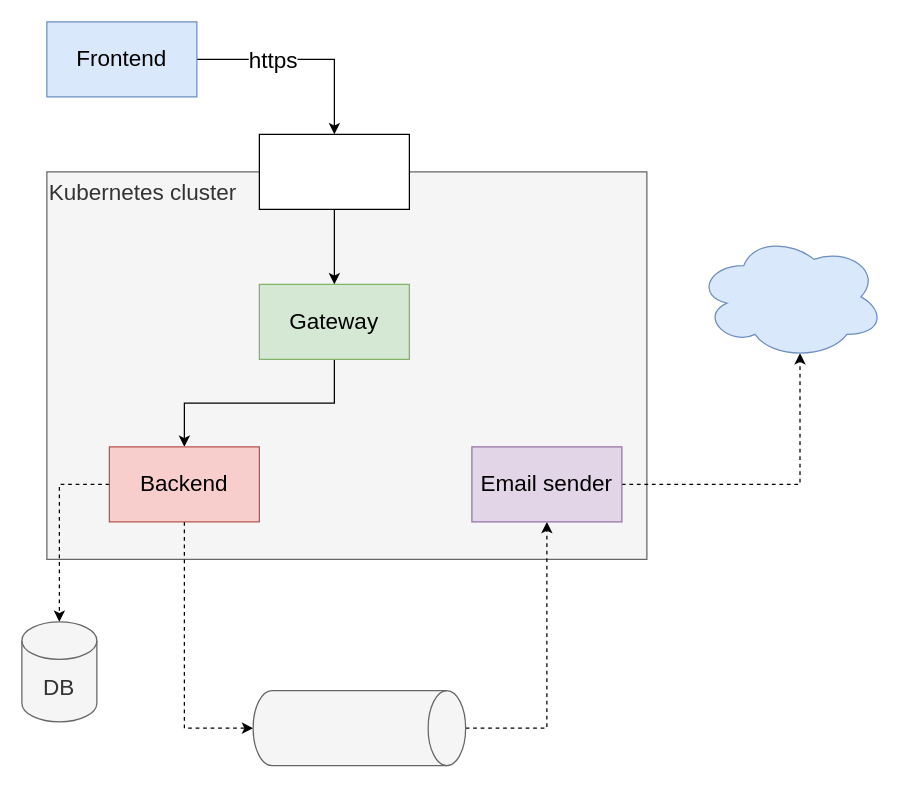
This 906x788 diagram has some shape labels left out. The centre of each missing label's shape, as x and y in pixels:
Ingress controller: [333,171]
Kafka topic: [359,727]
SMTP server: [790,296]
